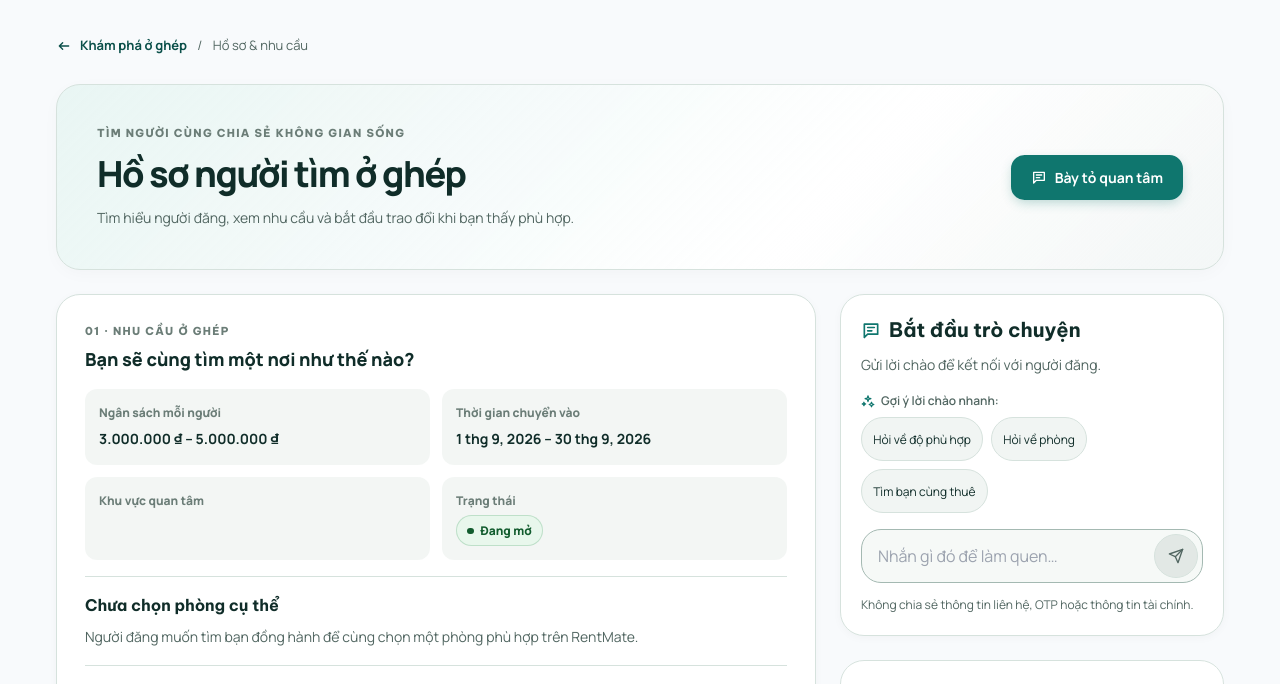
RoommateRequestDetailPage › recovers a duplicate-interest conflict without resending the draft
Type "Xin chào bạn" into the text box named "Lời nhắn mở đầu (bắt buộc)" at (1008, 556), box [866,534,1150,578]
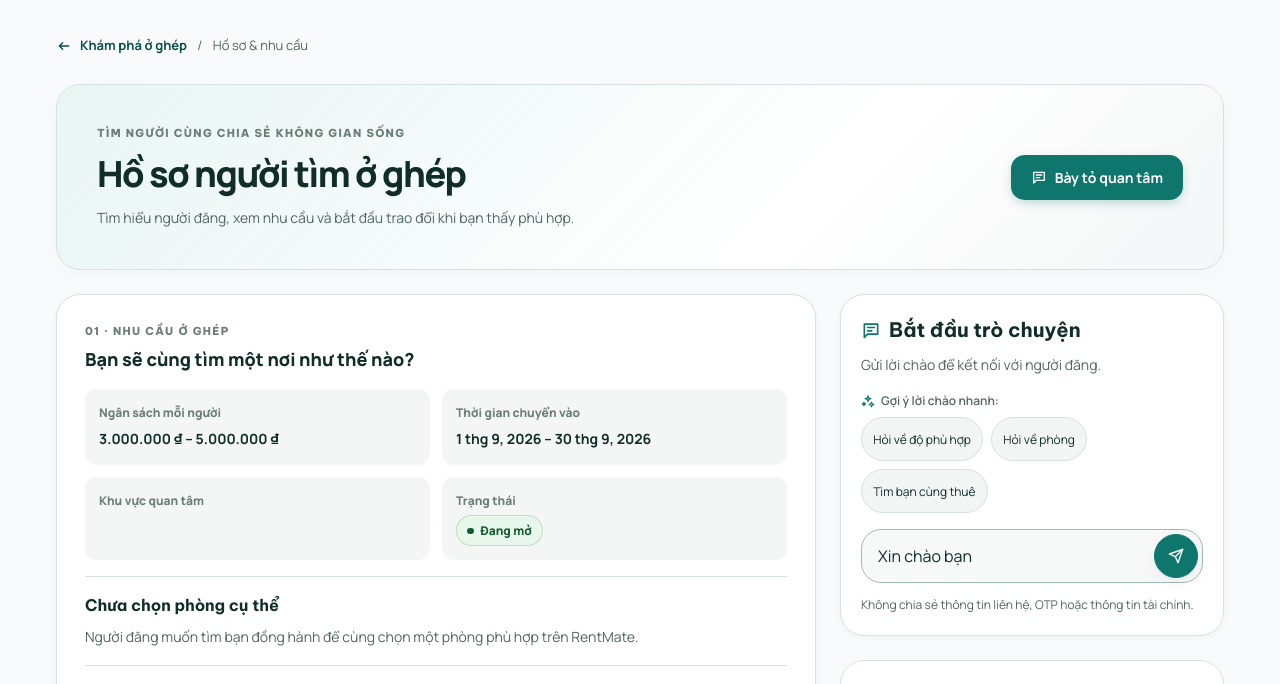
Click the button named "Gửi tin nhắn" at (1176, 556), box [1154,534,1198,578]
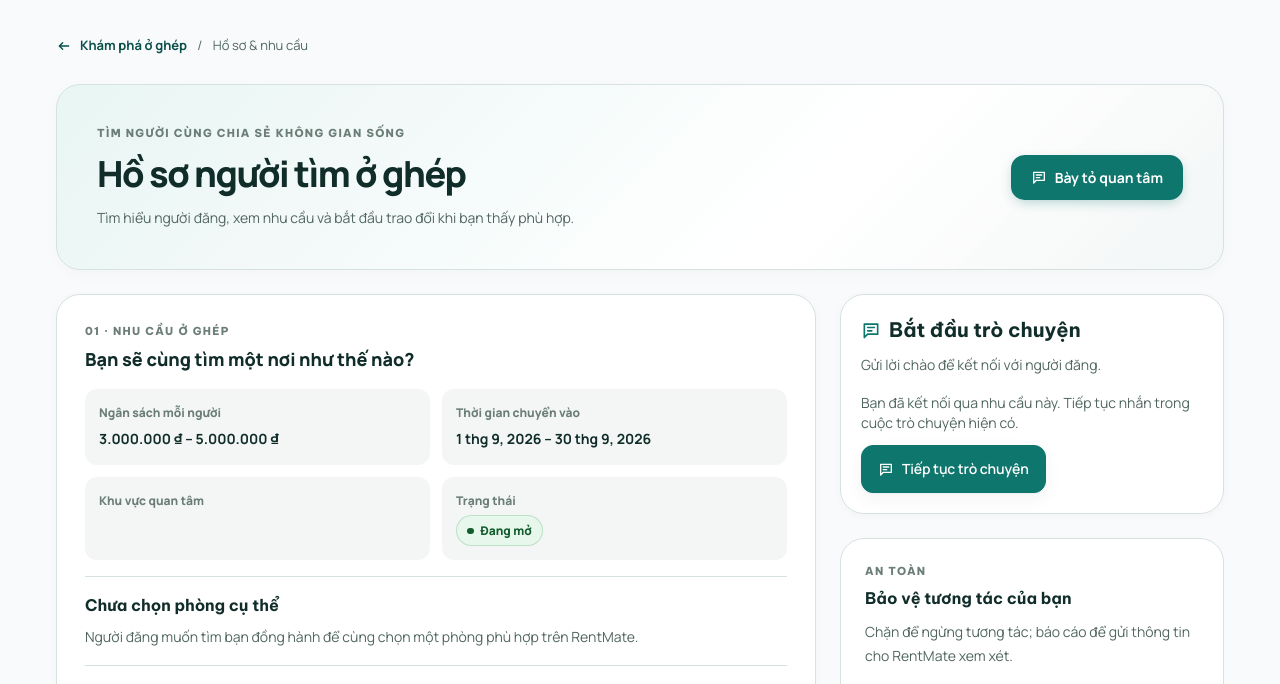
Check: the button "Tiếp tục trò chuyện" is shown, box [861,446,1046,494]
